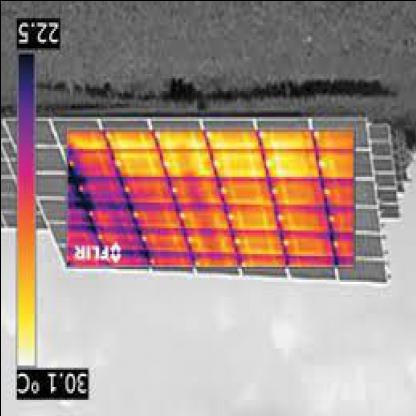Defects: (214, 148, 262, 180), (117, 152, 162, 176), (240, 230, 277, 256)
